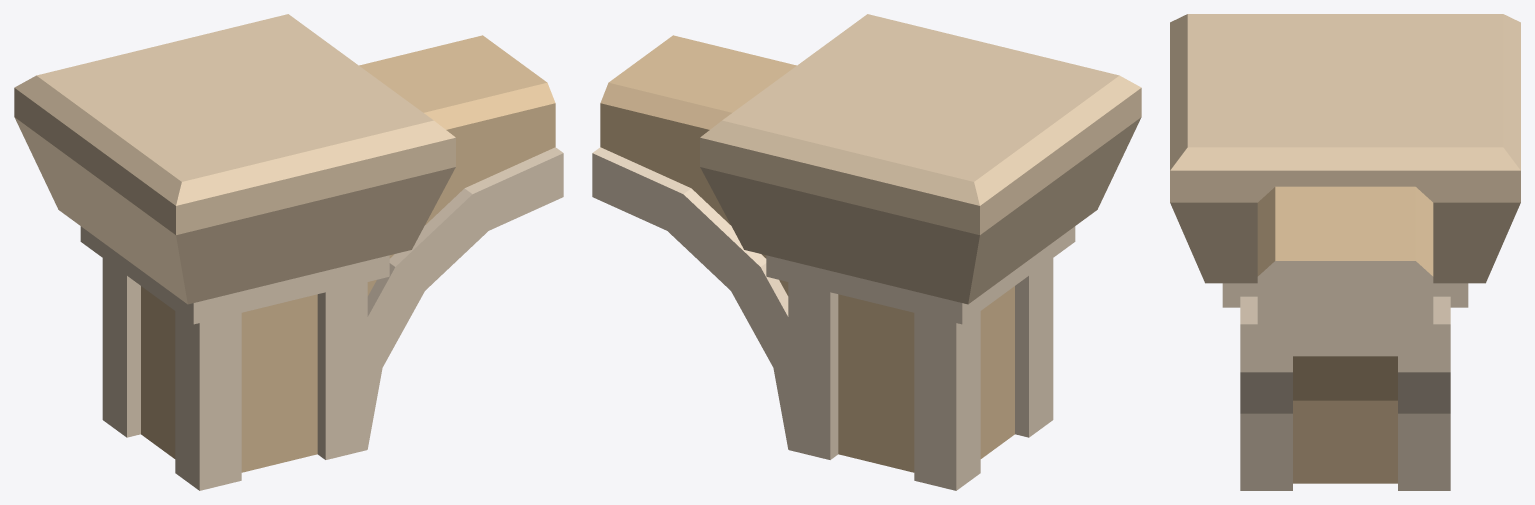
File: Pillar_Large_Arch_Top.glb
The picture shows the model from 3 angles, left to right: view 1: azimuth 30°, elevation 25°; view 2: azimuth 150°, elevation 25°; view 3: azimuth 270°, elevation 25°; orthographic projection. The views are drawn at different scales.
Parts seen in each view (by area): view 1: Pillar_Large_Arch_Top; view 2: Pillar_Large_Arch_Top; view 3: Pillar_Large_Arch_Top.
Boxes of the visible parts, x1,y1,x2,y2 form: Pillar_Large_Arch_Top: [14, 14, 563, 490]; Pillar_Large_Arch_Top: [592, 14, 1141, 490]; Pillar_Large_Arch_Top: [1170, 14, 1520, 490].
Size of the model in its own units: 1.5 by 1.15 by 1.
